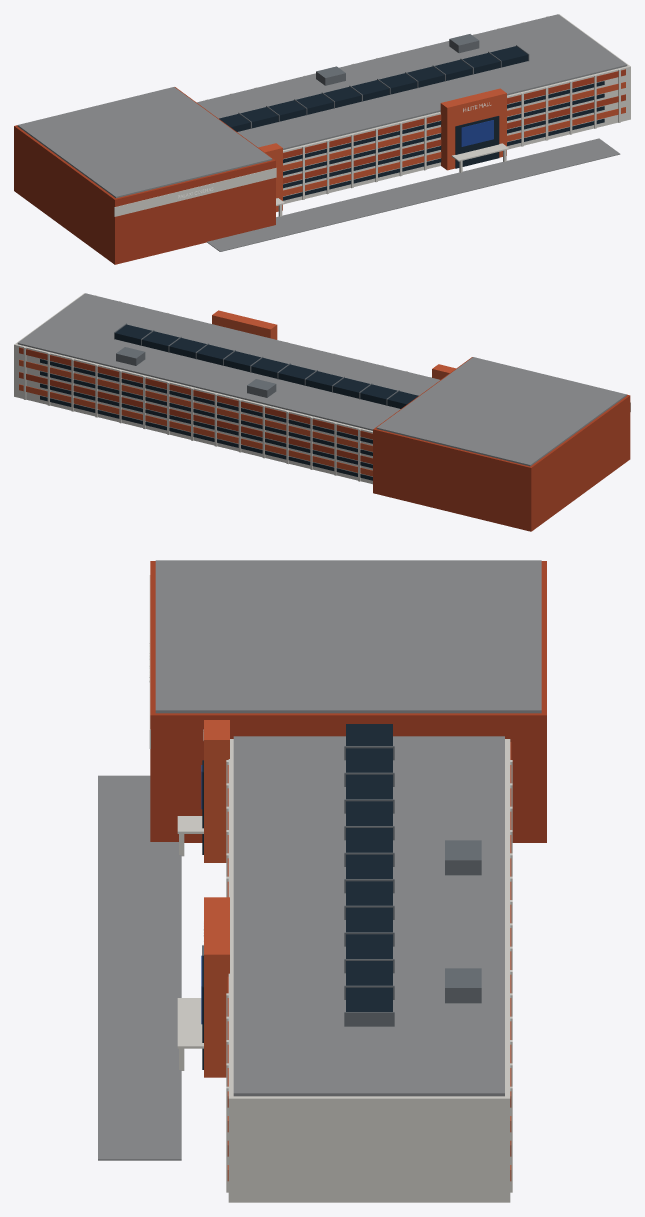
The model's file is hilitemall.glb.
The picture shows the model from 3 angles, top to bottom: view 1: azimuth 30°, elevation 25°; view 2: azimuth 150°, elevation 25°; view 3: azimuth 270°, elevation 25°; orthographic projection. The views are drawn at different scales.
Parts seen in each view (by area): view 1: hilitemall; view 2: hilitemall; view 3: hilitemall.
Part boxes in pixels (x1,y1,x2,y2): hilitemall: [14, 14, 630, 264]; hilitemall: [14, 293, 630, 531]; hilitemall: [98, 560, 546, 1202].
Bounding box in the file's own units: 233 × 27.6 × 86.
